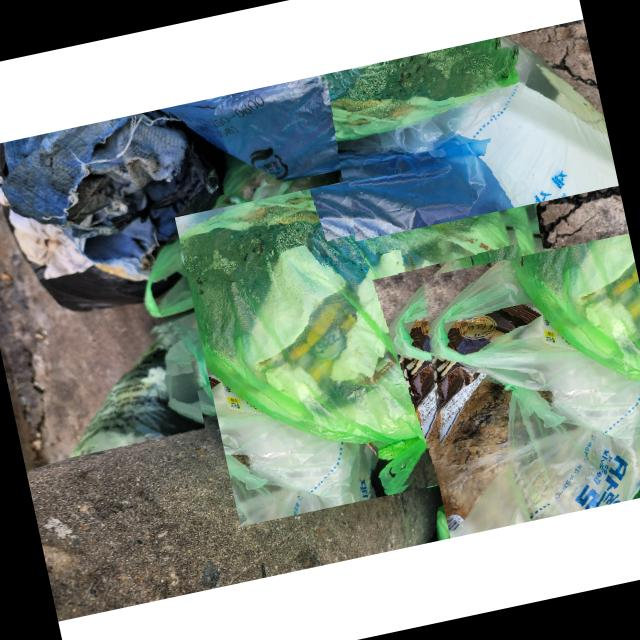general_trashbag: (178, 176, 547, 489), (422, 260, 640, 538), (340, 43, 618, 207), (166, 50, 483, 179), (69, 327, 203, 456)
